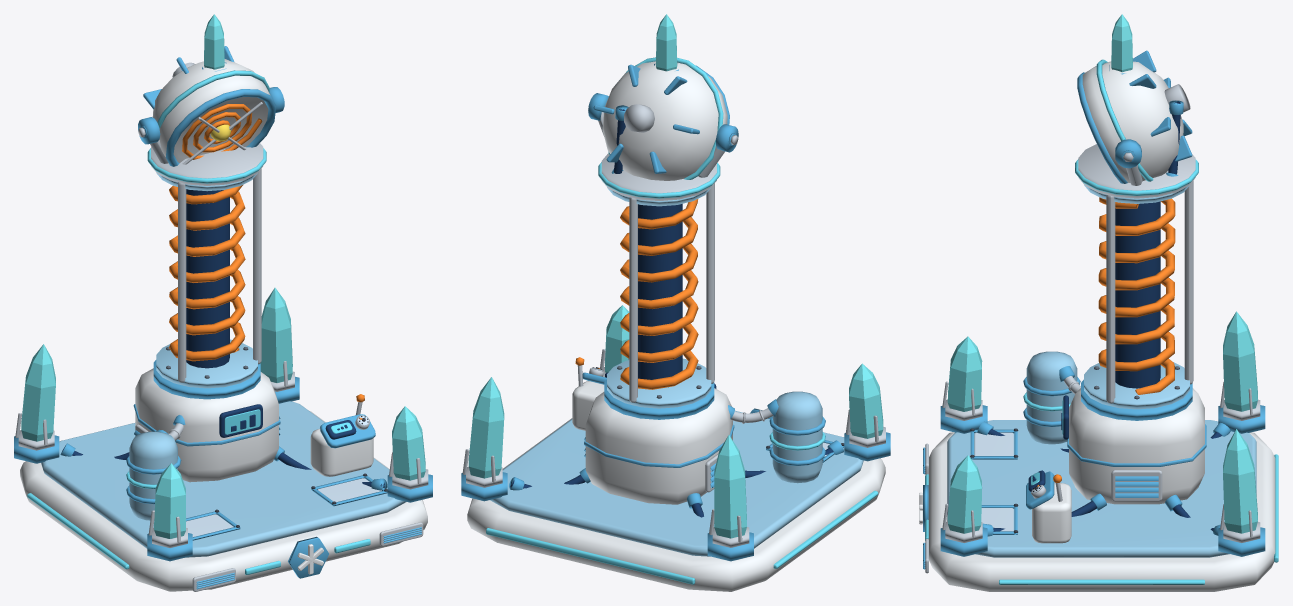
File: HeatLamp_T3.fbx
The picture shows the model from 3 angles, left to right: view 1: azimuth 30°, elevation 25°; view 2: azimuth 150°, elevation 25°; view 3: azimuth 270°, elevation 25°; orthographic projection. The views are drawn at different scales.
Parts seen in each view (by area): view 1: HeatLampT3Deck, HeatLampT3Coil, HeatLampT3Base, HeatLampT3CrystalsGlow, HeatLampT3Head, HeatLampT3CoilGlow, HeatLampT3Desk, HeatLampT3Crystals, HeatLampT3HeadGlow, HeatLampT3DeckGlow, HeatLampT3Cables, HeatLampT3Yoke (+1 smaller); view 2: HeatLampT3Deck, HeatLampT3Coil, HeatLampT3Base, HeatLampT3Head, HeatLampT3CrystalsGlow, HeatLampT3CoilGlow, HeatLampT3Desk, HeatLampT3Crystals, HeatLampT3DeckGlow, HeatLampT3Cables, HeatLampT3HeadGlow, HeatLampT3Yoke; view 3: HeatLampT3Deck, HeatLampT3Coil, HeatLampT3Base, HeatLampT3CrystalsGlow, HeatLampT3Head, HeatLampT3CoilGlow, HeatLampT3Desk, HeatLampT3Crystals, HeatLampT3Cables, HeatLampT3DeckGlow, HeatLampT3HeadGlow, HeatLampT3Yoke.
Part boxes in pixels (<box>): HeatLampT3Deck: <box>20,401,427,591</box>; HeatLampT3Coil: <box>151,143,263,399</box>; HeatLampT3Base: <box>133,368,280,482</box>; HeatLampT3CrystalsGlow: <box>21,287,425,538</box>; HeatLampT3Head: <box>143,46,276,166</box>; HeatLampT3CoilGlow: <box>147,148,266,361</box>; HeatLampT3Desk: <box>126,394,375,520</box>; HeatLampT3Crystals: <box>14,361,432,561</box>; HeatLampT3HeadGlow: <box>157,14,269,159</box>; HeatLampT3DeckGlow: <box>27,493,370,574</box>; HeatLampT3Cables: <box>60,415,387,490</box>; HeatLampT3Yoke: <box>138,87,284,163</box>; HeatLampT3Deck: <box>467,408,885,591</box>; HeatLampT3Coil: <box>601,153,716,419</box>; HeatLampT3Base: <box>584,383,734,504</box>; HeatLampT3Head: <box>593,61,729,180</box>; HeatLampT3CrystalsGlow: <box>468,305,883,538</box>; HeatLampT3CoilGlow: <box>598,162,720,389</box>; HeatLampT3Desk: <box>572,357,825,483</box>; HeatLampT3Crystals: <box>461,349,890,561</box>; HeatLampT3DeckGlow: <box>486,490,878,584</box>; HeatLampT3Cables: <box>509,105,843,517</box>; HeatLampT3HeadGlow: <box>608,14,723,179</box>; HeatLampT3Yoke: <box>588,93,738,177</box>; HeatLampT3Deck: <box>919,420,1275,591</box>; HeatLampT3Coil: <box>1078,144,1195,420</box>; HeatLampT3Base: <box>1061,388,1206,504</box>; HeatLampT3CrystalsGlow: <box>947,311,1257,533</box>; HeatLampT3Head: <box>1077,50,1192,183</box>; HeatLampT3CoilGlow: <box>1075,159,1198,394</box>; HeatLampT3Desk: <box>1023,351,1080,543</box>; HeatLampT3Crystals: <box>940,381,1265,556</box>; HeatLampT3Cables: <box>977,100,1230,536</box>; HeatLampT3DeckGlow: <box>925,454,1278,584</box>; HeatLampT3HeadGlow: <box>1096,14,1153,181</box>; HeatLampT3Yoke: <box>1115,139,1142,185</box>.
Bounding box in the file's own units: 190 × 302 × 192.
